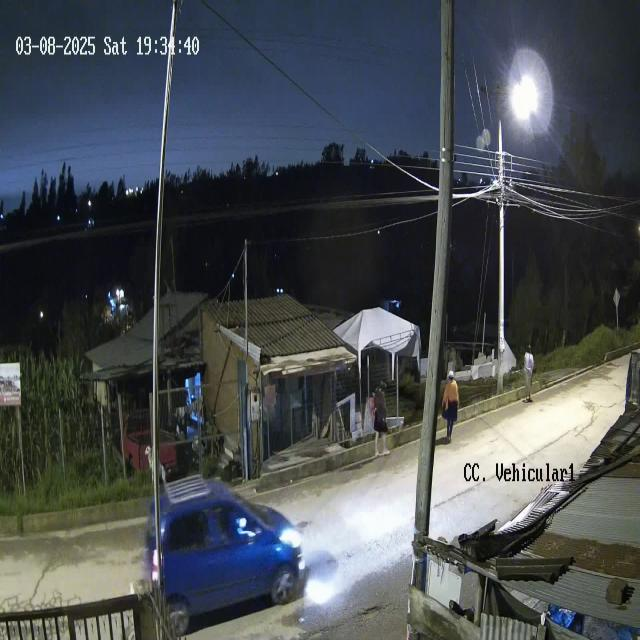SUV: (142, 474, 307, 634)
